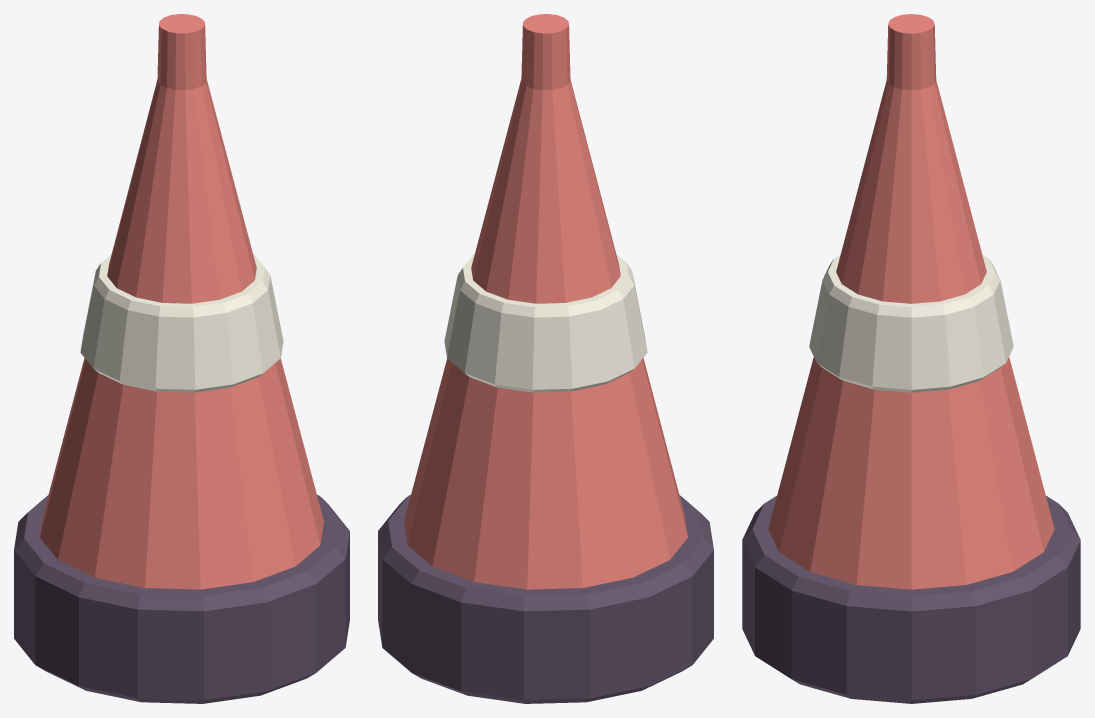
Rendered from traffic_cone.glb.
The picture shows the model from 3 angles, left to right: view 1: azimuth 30°, elevation 25°; view 2: azimuth 150°, elevation 25°; view 3: azimuth 270°, elevation 25°; orthographic projection.
Visible parts, largest first — view 1: model; view 2: model; view 3: model.
Boxes of the visible parts, box(x1,y1,x2,y2) form: model: box(14, 14, 349, 703); model: box(378, 14, 713, 703); model: box(742, 14, 1080, 703).
Bounding box in the file's own units: 0.3 × 0.6 × 0.3.
